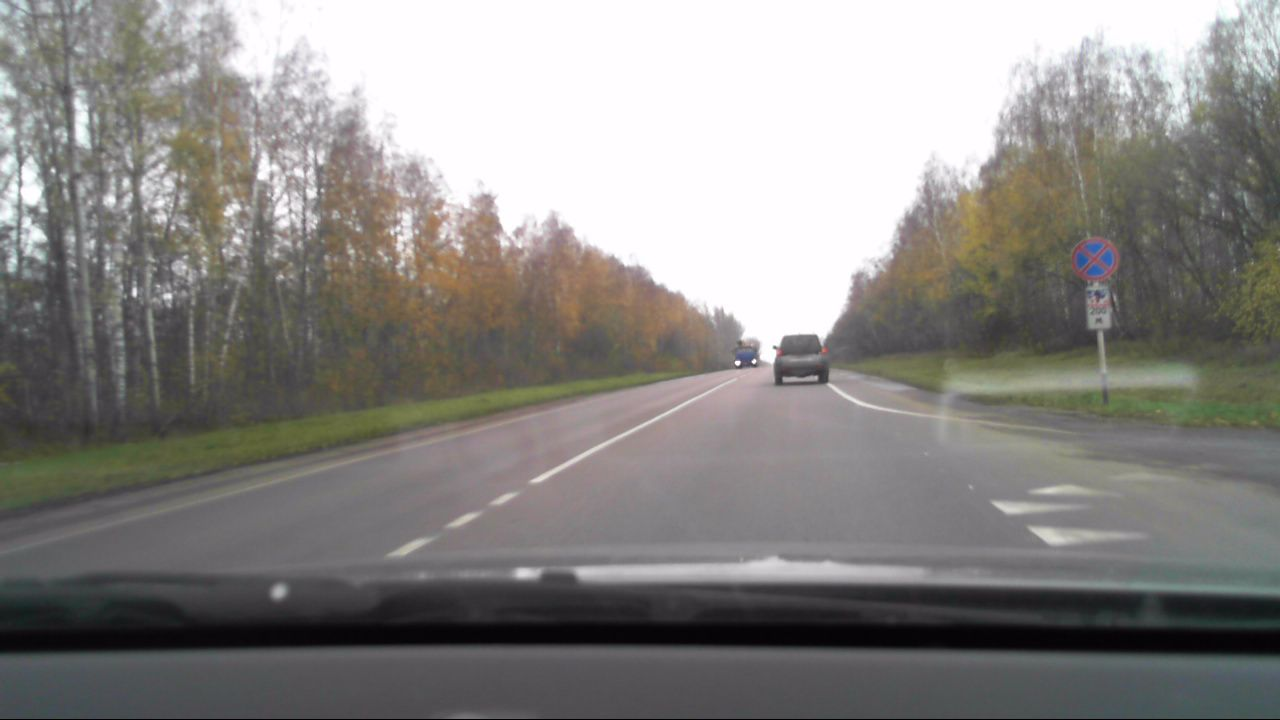No Parking: (1070, 235, 1118, 280)
